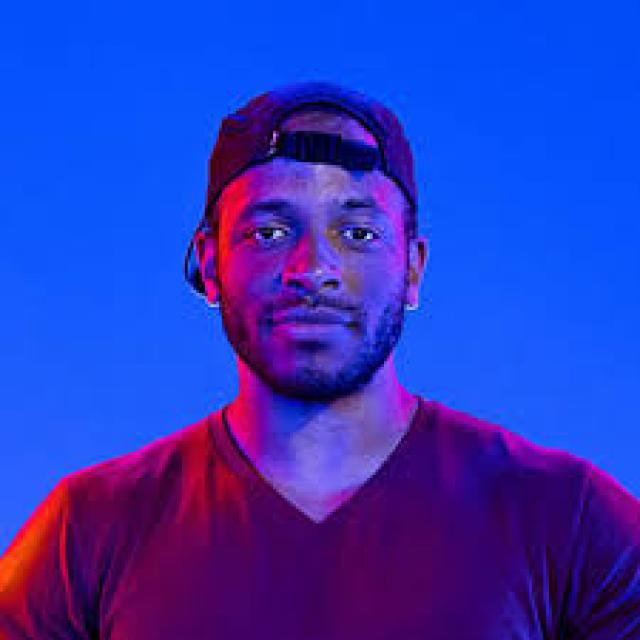cap: (185, 85, 424, 392)
